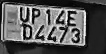1: (44, 9, 51, 26)
3: (69, 27, 81, 45)
4: (52, 8, 66, 27), (34, 24, 48, 43), (46, 25, 58, 44)
7: (57, 25, 69, 45)
D: (20, 22, 34, 41)
E: (64, 9, 78, 28)
P: (31, 6, 41, 24)
U: (17, 5, 30, 24)
